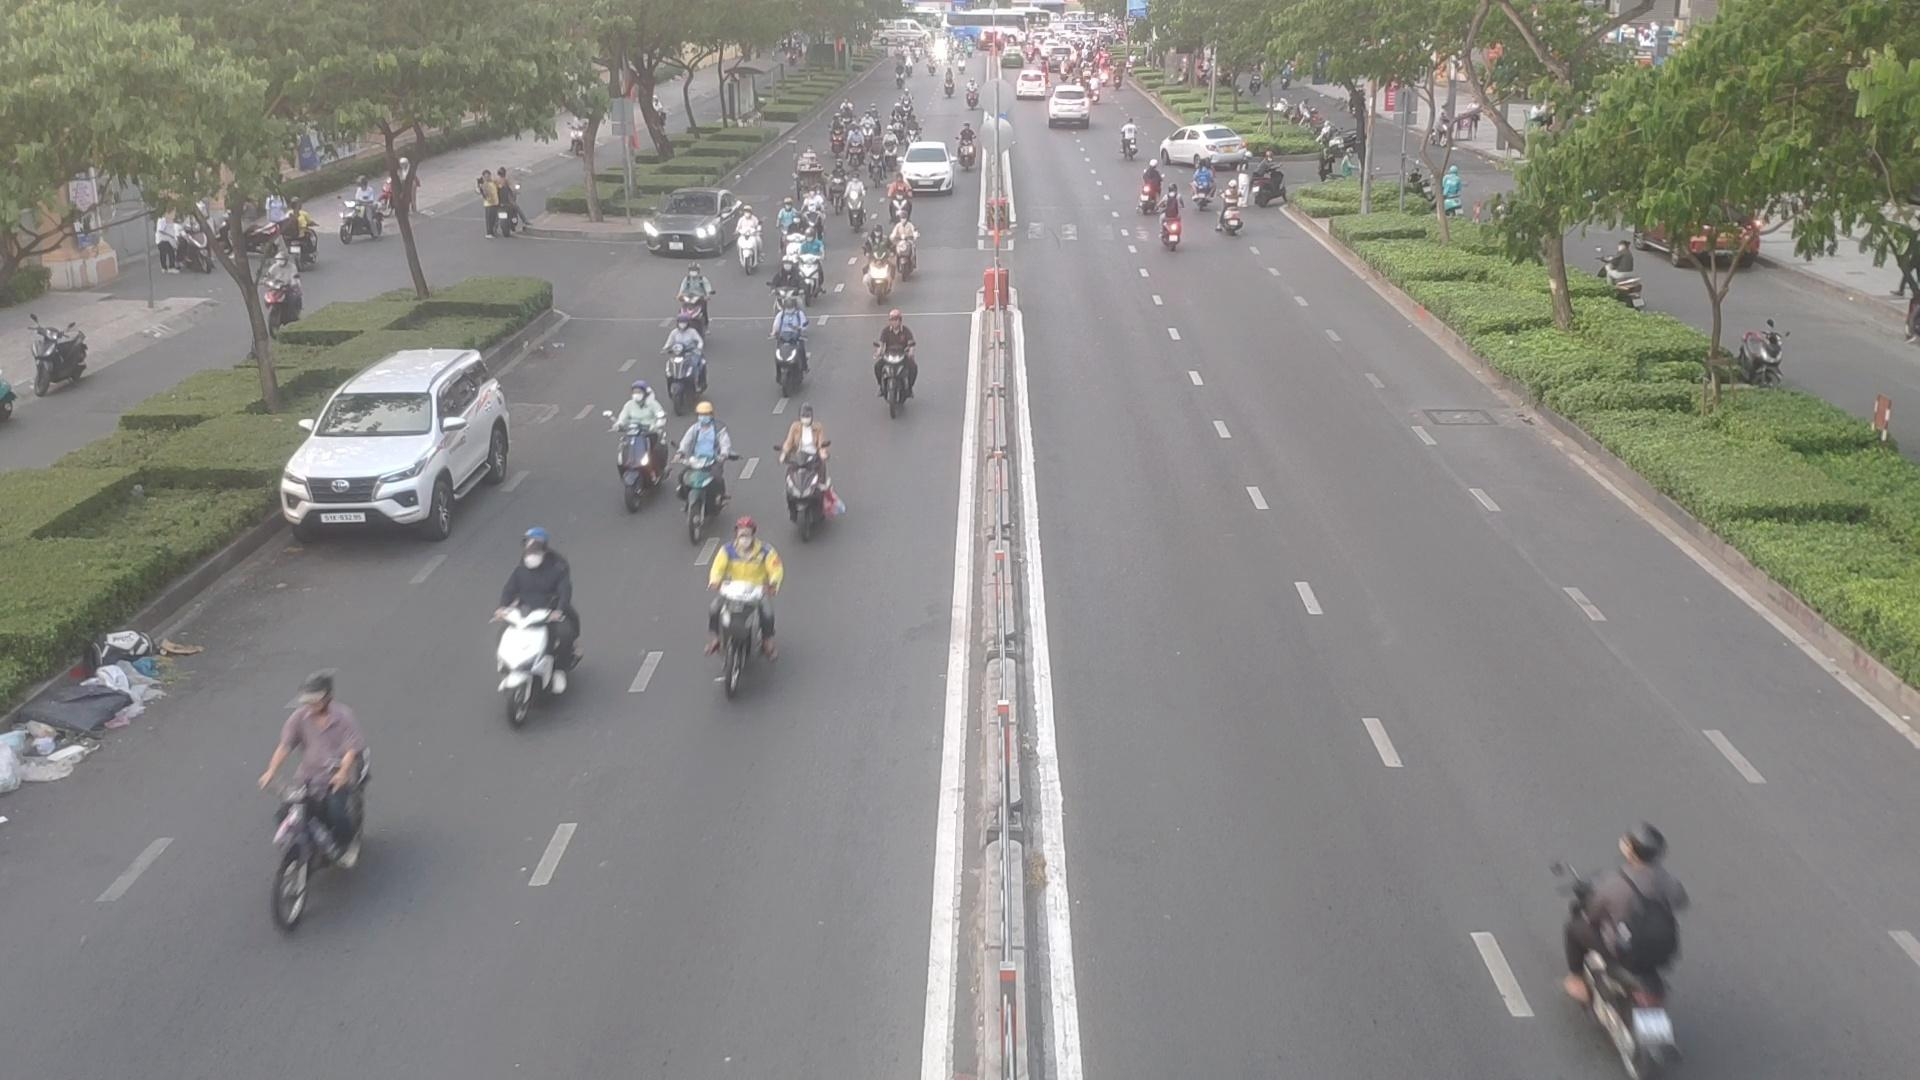car: (280, 345, 518, 537), (636, 190, 742, 261), (1160, 123, 1255, 183), (899, 142, 959, 194)
motorbike: (1538, 814, 1688, 1080), (235, 653, 380, 920), (476, 516, 578, 738), (711, 524, 781, 692), (767, 407, 840, 550), (604, 375, 669, 517), (862, 303, 928, 427), (676, 409, 724, 541), (765, 301, 818, 386), (659, 313, 704, 404), (670, 269, 713, 335), (796, 225, 829, 301), (889, 212, 918, 284), (771, 251, 798, 323), (735, 208, 764, 270), (866, 227, 893, 290), (1158, 179, 1182, 244), (1139, 156, 1163, 215), (802, 186, 825, 240), (1220, 179, 1240, 237), (889, 171, 910, 219), (956, 123, 977, 170), (845, 173, 862, 229), (1193, 160, 1212, 208), (831, 160, 848, 210), (775, 198, 793, 244), (881, 125, 898, 167), (869, 137, 884, 186), (786, 214, 800, 257), (848, 127, 862, 167), (901, 115, 918, 149), (832, 113, 847, 152), (860, 109, 874, 145), (1122, 119, 1134, 157)
